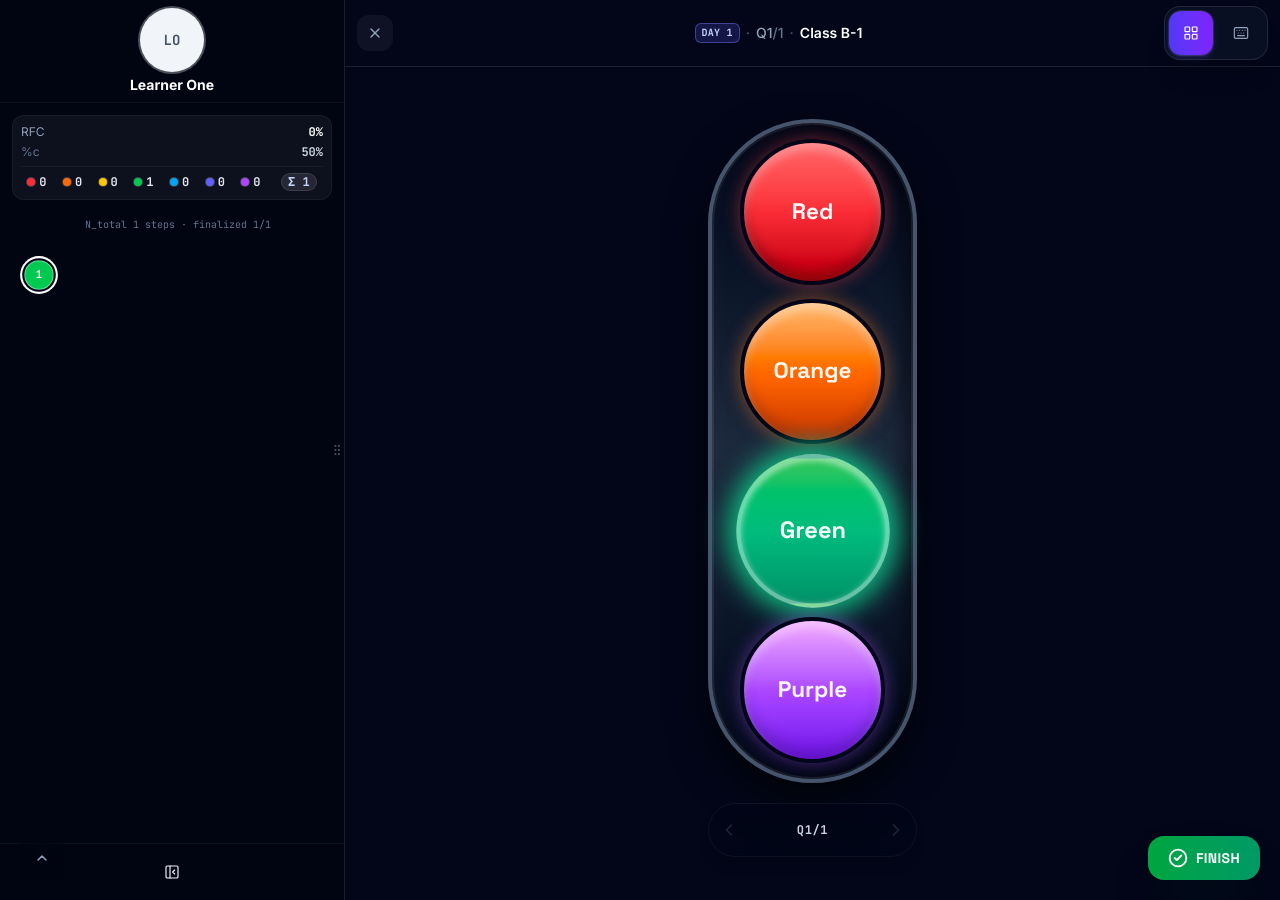
Test case: TeacherObservePage - Finish and Failure Handling › shows error warning and retains modal when server sync fails during finish
The width and height of the screenshot is (1280, 900).
// Click Finish FAB button to open summary modal
Step 1. Click the button with aria-label "Finish session and save" → [1204, 858], box [1148,836,1260,880]
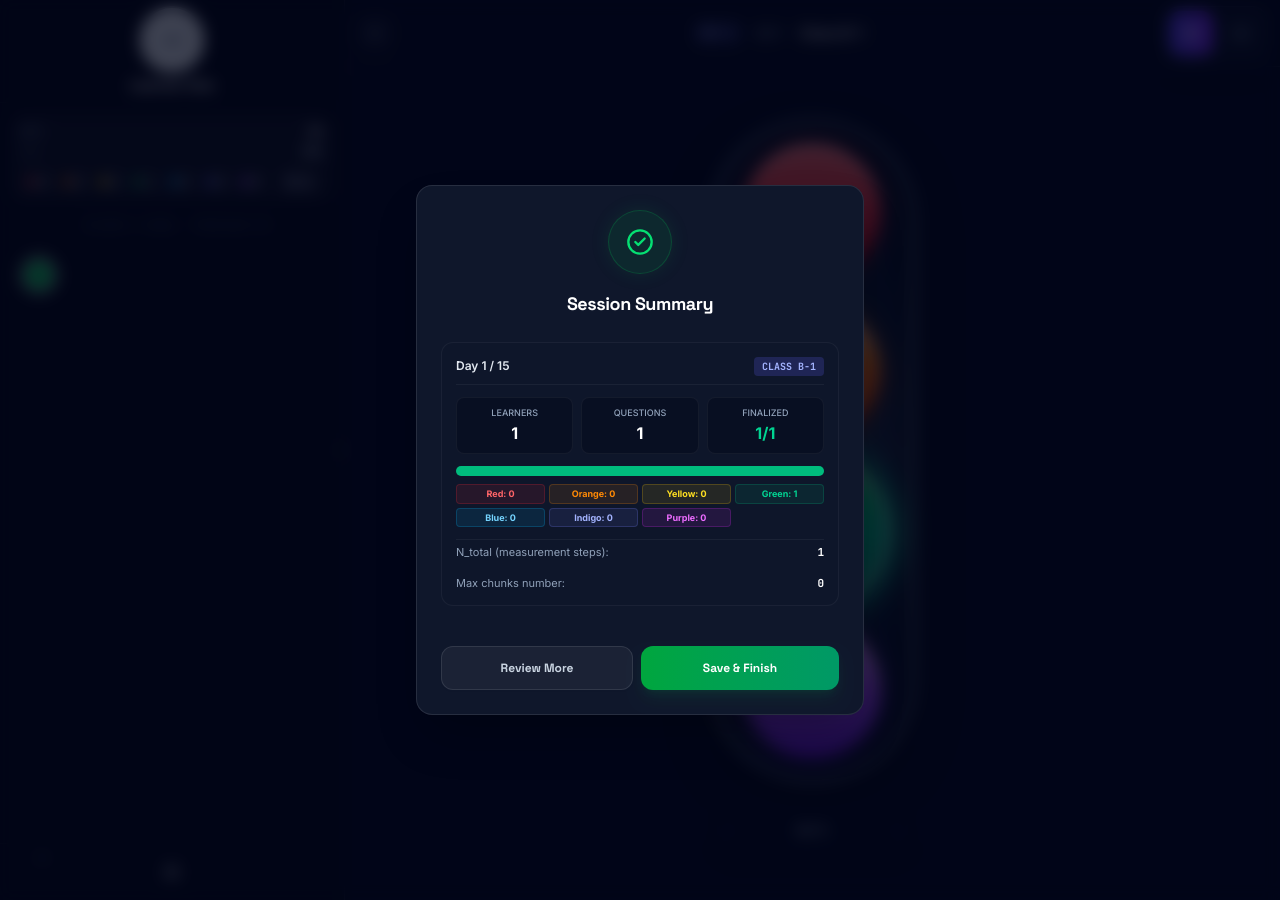
Check: the heading "Session Summary" is shown, box [567,290,713,318]
Check: the button "Save & Finish" is shown
// Confirm finish
Step 2. Click the button "Save & Finish" → [740, 668], box [641,646,839,690]
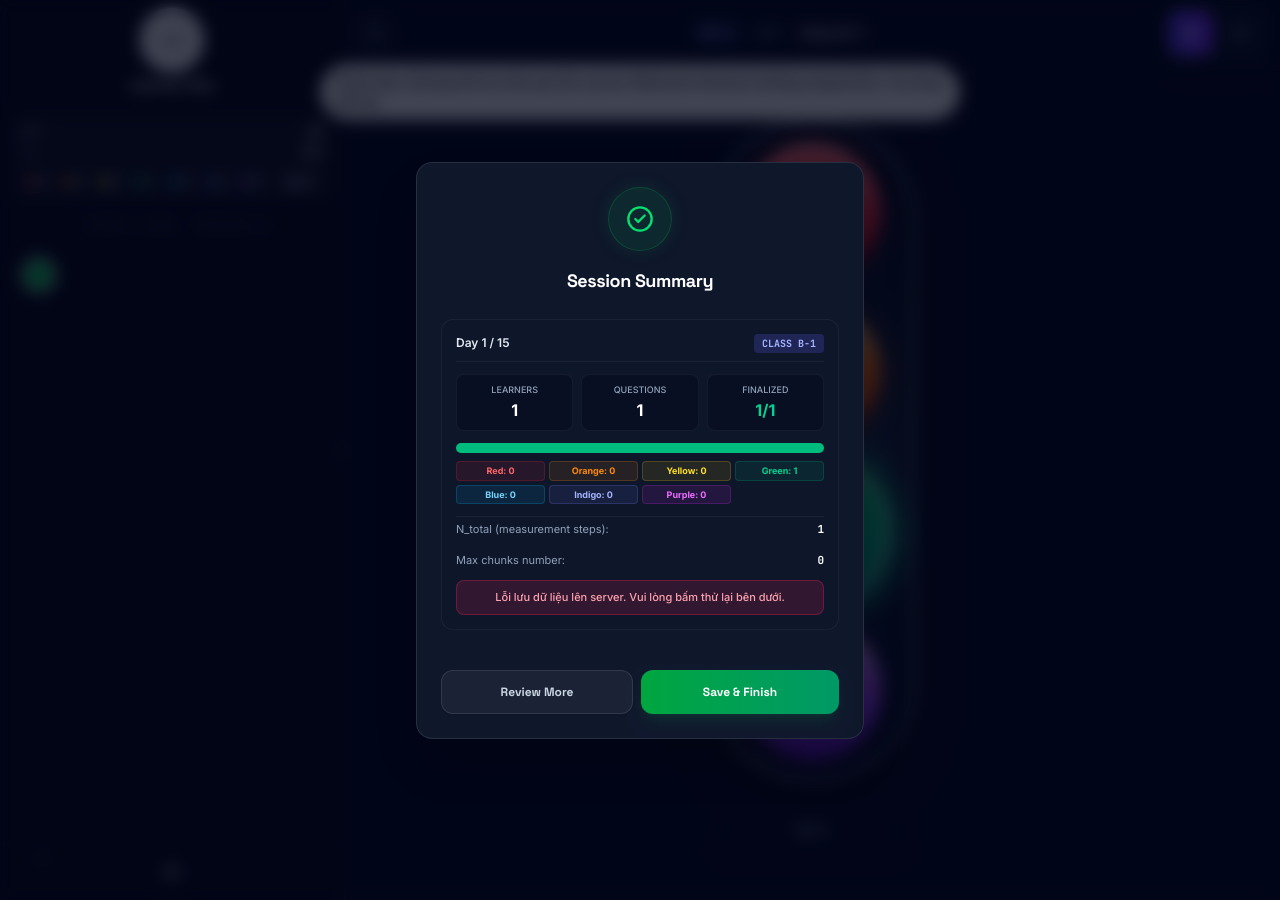
Check: the text "Cảnh báo: Không thể lưu kết quả lên server" is shown, box [336,73,942,110]
